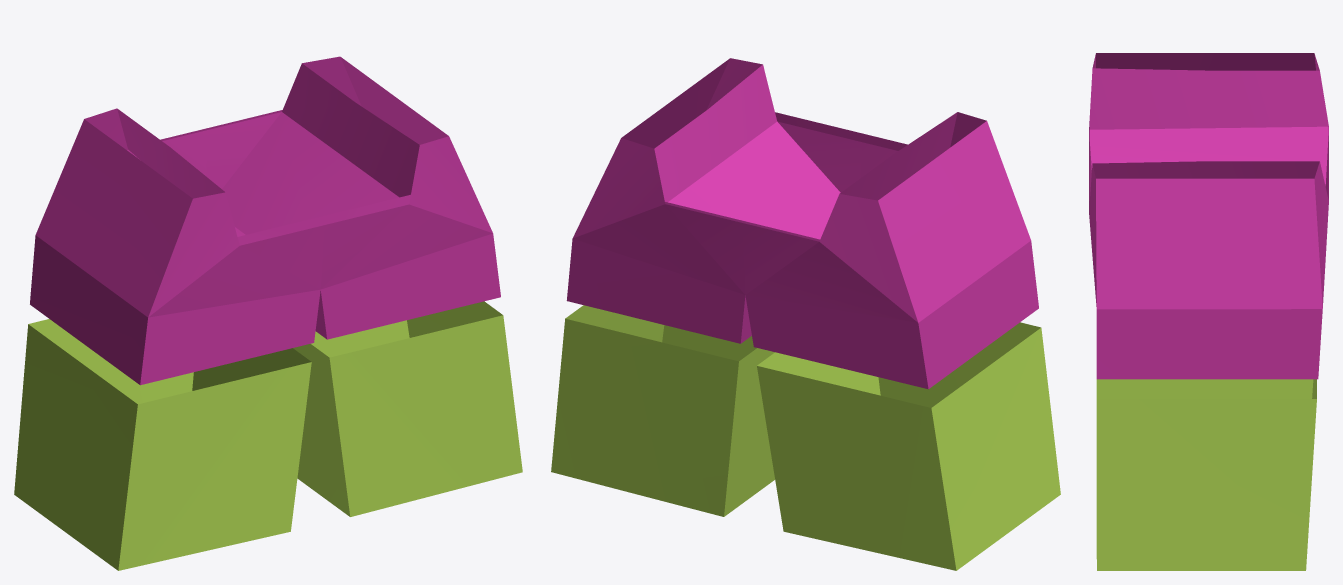
Rendered from Base Short Pant.fbx.
3 views of the same model, side by side, from view 1: azimuth 30°, elevation 25°; view 2: azimuth 150°, elevation 25°; view 3: azimuth 270°, elevation 25° (orthographic).
Parts seen in each view (by area): view 1: Right_Legging, Left_Legging, Lower_Right_Pant, Pant, Lower_Leftt_Pant; view 2: Right_Legging, Left_Legging, Lower_Right_Pant, Lower_Leftt_Pant, Pant; view 3: Left_Legging, Lower_Leftt_Pant, Lower_Right_Pant, Pant.
Part boxes in pixels (bbox=[...]): Right_Legging: bbox=[14, 235, 320, 570]; Left_Legging: bbox=[293, 233, 522, 516]; Lower_Right_Pant: bbox=[35, 108, 319, 317]; Pant: bbox=[128, 110, 410, 289]; Lower_Leftt_Pant: bbox=[282, 56, 492, 289]; Right_Legging: bbox=[745, 241, 1060, 570]; Left_Legging: bbox=[551, 238, 774, 516]; Lower_Right_Pant: bbox=[746, 112, 1030, 322]; Lower_Leftt_Pant: bbox=[572, 58, 777, 294]; Pant: bbox=[665, 112, 907, 294]; Left_Legging: bbox=[1096, 309, 1322, 570]; Lower_Leftt_Pant: bbox=[1089, 161, 1328, 309]; Lower_Right_Pant: bbox=[1089, 53, 1328, 129]; Pant: bbox=[1089, 121, 1328, 209].
Bounding box in the file's own units: 40.75 × 39.1 × 20.85.
Materials: 1 (1 with a texture image).
